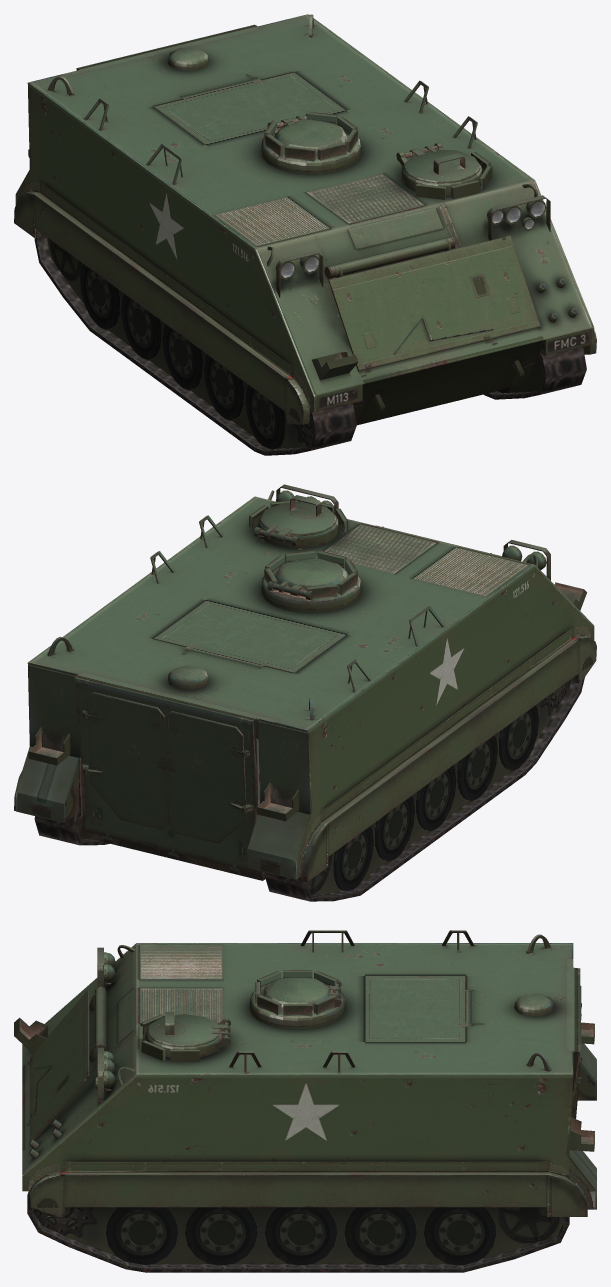
File: XeM113_Body_New.fbx
3 renders of one model, top to bottom at view 1: azimuth 30°, elevation 25°; view 2: azimuth 150°, elevation 25°; view 3: azimuth 270°, elevation 25°, orthographic. The views are drawn at different scales.
Visible parts, largest first — view 1: body, Rim3, Wheel; view 2: body, Rim3, DoorR, DoorL, Wheel; view 3: body, Rim3, Wheel.
Boxes of the visible parts, x1,y1,x2,y2 form: body: (14,14,596,425); Rim3: (47,238,543,449); Wheel: (34,233,586,455); body: (14,484,596,881); Rim3: (77,679,571,894); DoorR: (164,711,246,843); DoorL: (86,692,168,829); Wheel: (34,677,584,901); body: (14,930,596,1216); Rim3: (33,1207,564,1265); Wheel: (27,1175,569,1272).
Size of the model in its own units: 382 by 291 by 683.
